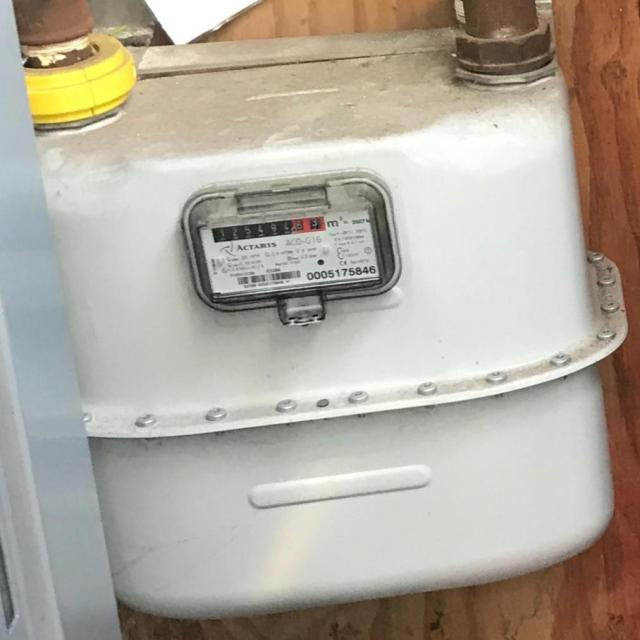gaz_meter: (198, 184, 386, 303)
indication: (211, 215, 326, 244)
